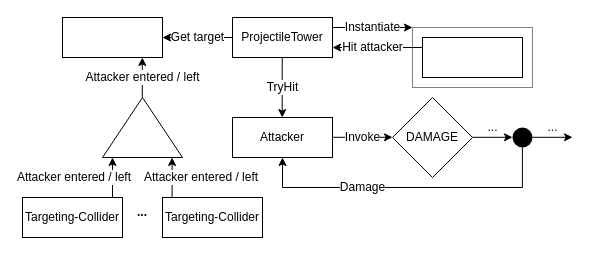
Image size: 598x255. Some labels were removed from this diagram. Here are the shapes that lost their labels. From the top down, the centre of each, then its label:
At [112,37]: "Targeting".
At [472,57]: "Projectile".
